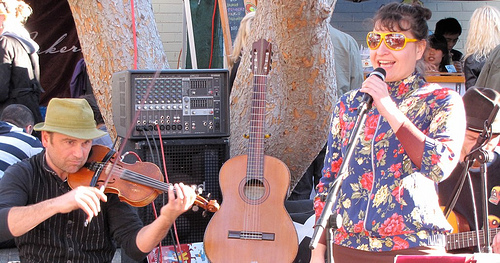guitar: (203, 37, 301, 263), (434, 203, 500, 255)
